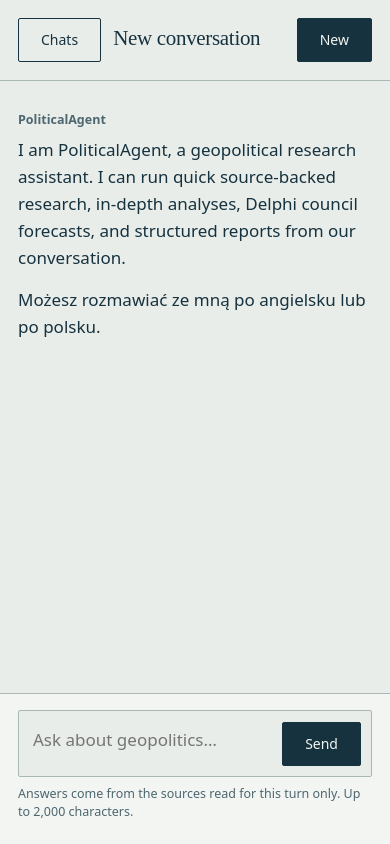
Scenario: the app shell › mobile conversation drawer › Escape and the backdrop close the drawer
Click the button "Chats": (60, 40) [18,18,101,62]
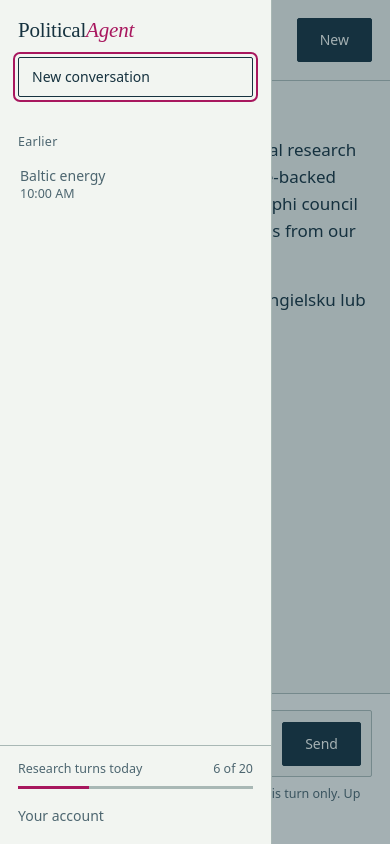
Press Escape
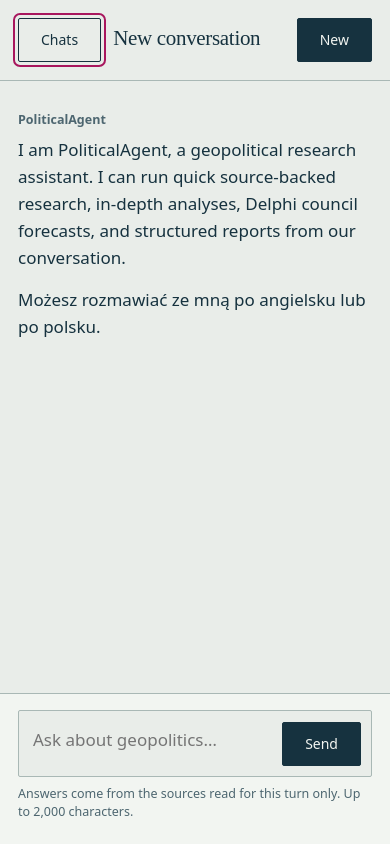
Check: the button "Chats" is collapsed
Click the button "Chats": (60, 40) [18,18,101,62]
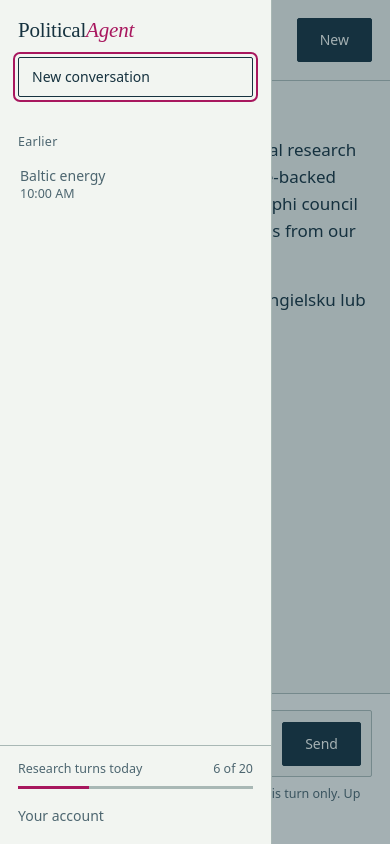
Click the element with test id "drawer-backdrop": (367, 422) [0,0,389,843]
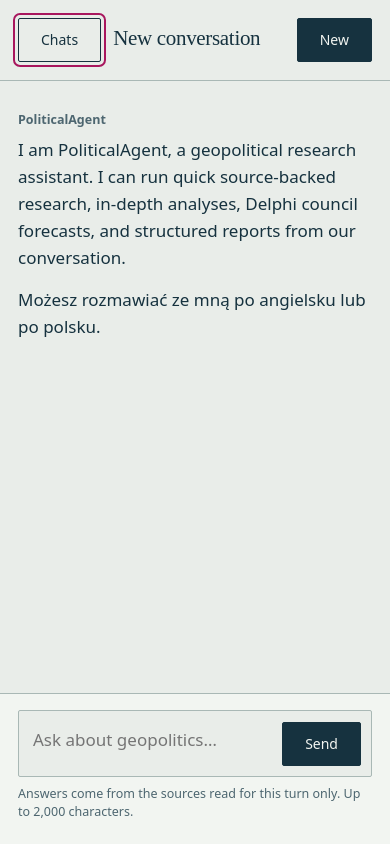
Check: the button "Chats" is collapsed, box [18,18,101,62]
